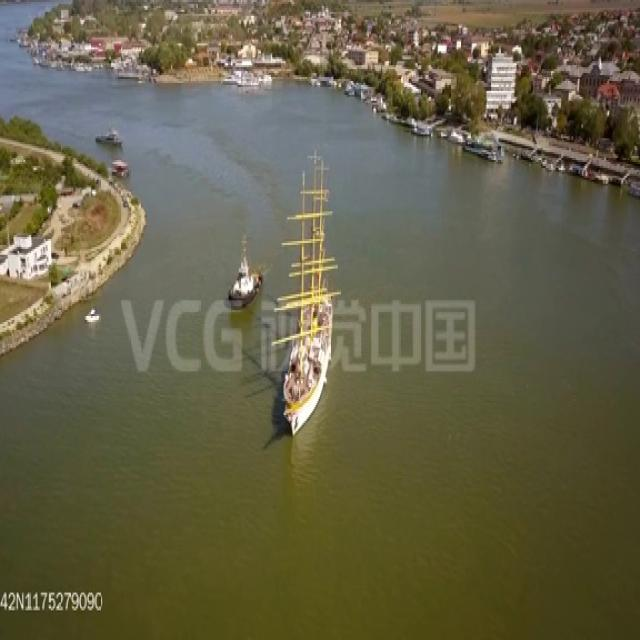houseboat: (228, 234, 259, 307), (95, 122, 123, 151), (110, 152, 129, 181), (83, 304, 103, 325)
sailboat: (278, 146, 336, 435)
